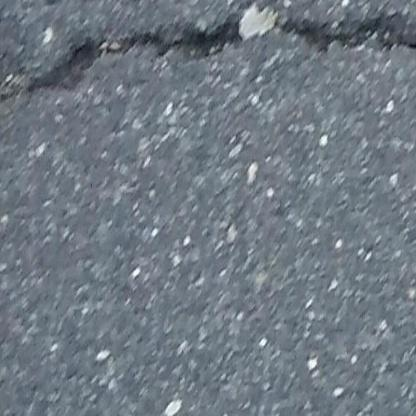Cracks: (0, 0, 416, 143)
